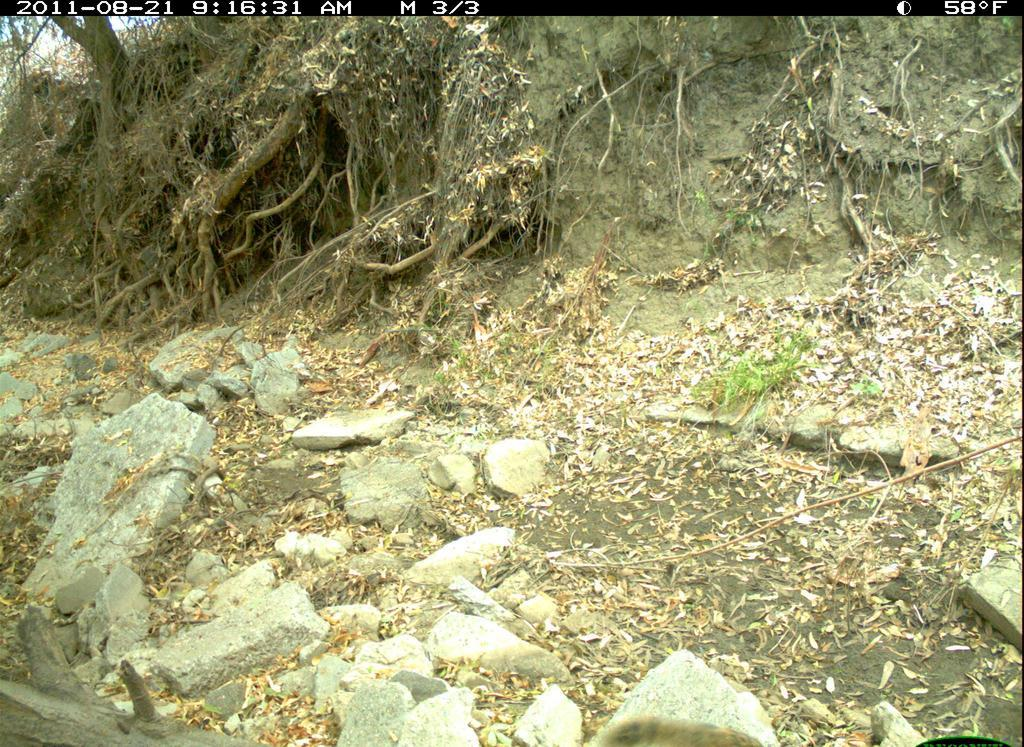squirrel: (601, 709, 794, 747)
